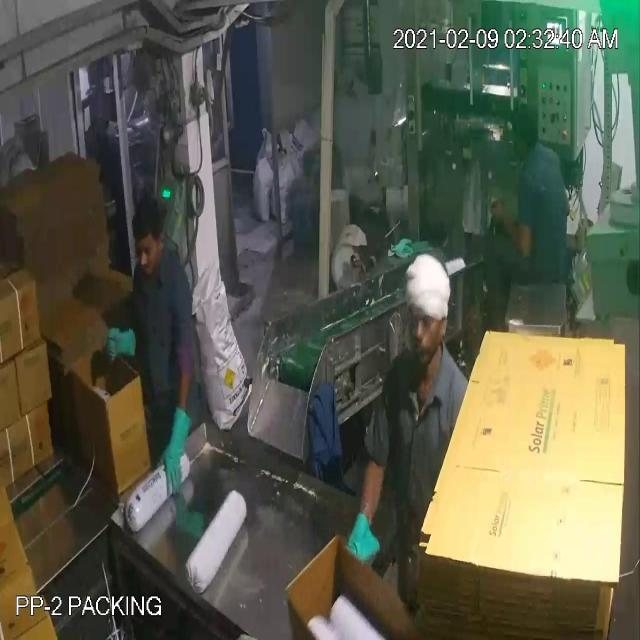gloves: (329, 504, 387, 585), (151, 407, 201, 500), (96, 324, 144, 369)
no-gloves: (477, 191, 543, 263)
